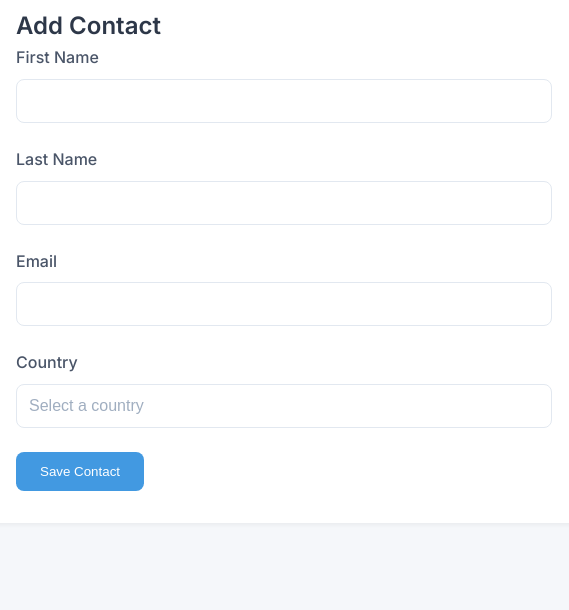
ContactForm › shows validation errors for empty fields
The width and height of the screenshot is (569, 610).
Click the button "Save Contact": (80,471) [16,452,144,491]
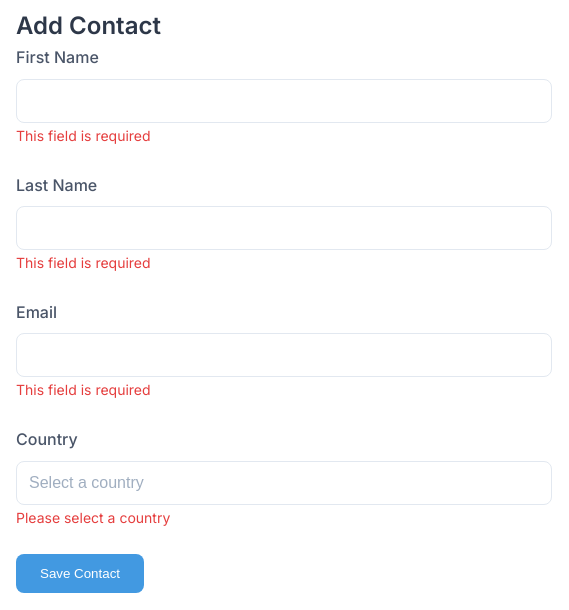
Expected: the text "This field is required" below "Email" is shown, [16,381,151,398]
